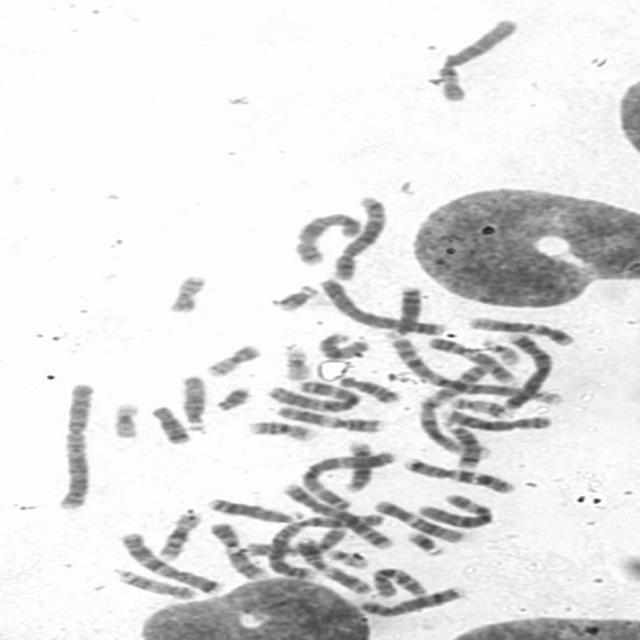A1: (382, 335, 566, 407), (414, 360, 492, 457)
A2: (262, 508, 388, 579), (49, 377, 97, 512)
A3: (296, 446, 398, 509), (262, 377, 364, 414)
B4: (312, 274, 448, 336), (497, 329, 554, 410)
B5: (277, 480, 398, 550), (327, 192, 391, 281)
C10: (241, 524, 351, 559), (368, 564, 429, 599)
C11: (291, 534, 377, 596), (272, 402, 388, 433)
C12: (369, 496, 469, 544), (463, 313, 578, 347)
C6: (431, 14, 521, 103), (414, 490, 496, 529)
C7: (114, 528, 228, 596), (398, 454, 518, 495)
C8: (354, 583, 468, 618), (435, 406, 553, 432)
C9: (422, 332, 520, 384), (206, 519, 273, 581)
D13: (202, 494, 304, 524), (381, 282, 424, 340)
D14: (439, 420, 482, 470), (338, 439, 376, 493)
D15: (176, 371, 210, 433), (313, 330, 372, 360)
E16: (153, 508, 204, 561), (242, 417, 320, 443)
E17: (109, 564, 199, 601), (444, 393, 515, 419)
E18: (145, 402, 195, 446), (333, 373, 403, 404)
F19: (106, 398, 144, 439), (278, 342, 314, 382)
F20: (199, 340, 265, 378), (162, 271, 210, 314)
G21: (268, 281, 320, 313), (401, 528, 447, 556)
G22: (476, 336, 522, 366), (322, 546, 372, 570)
X: (288, 209, 364, 267)
Y: (210, 382, 253, 412)
